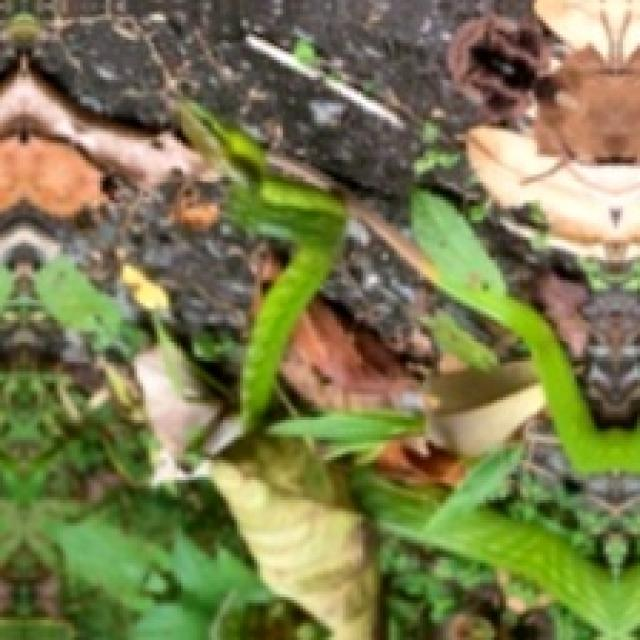red-tailed green ratsnake: (412, 191, 640, 472), (179, 102, 344, 432), (355, 471, 640, 640)
